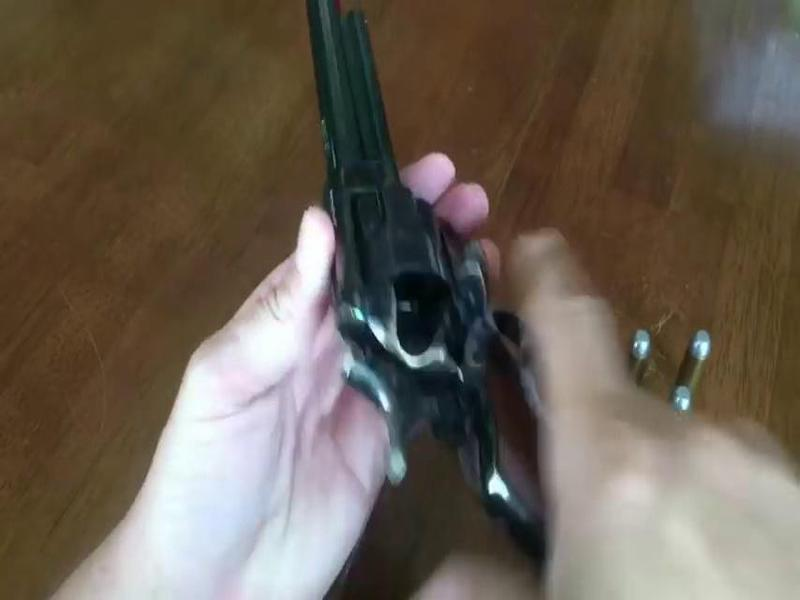Revolver: (279, 17, 557, 505)
